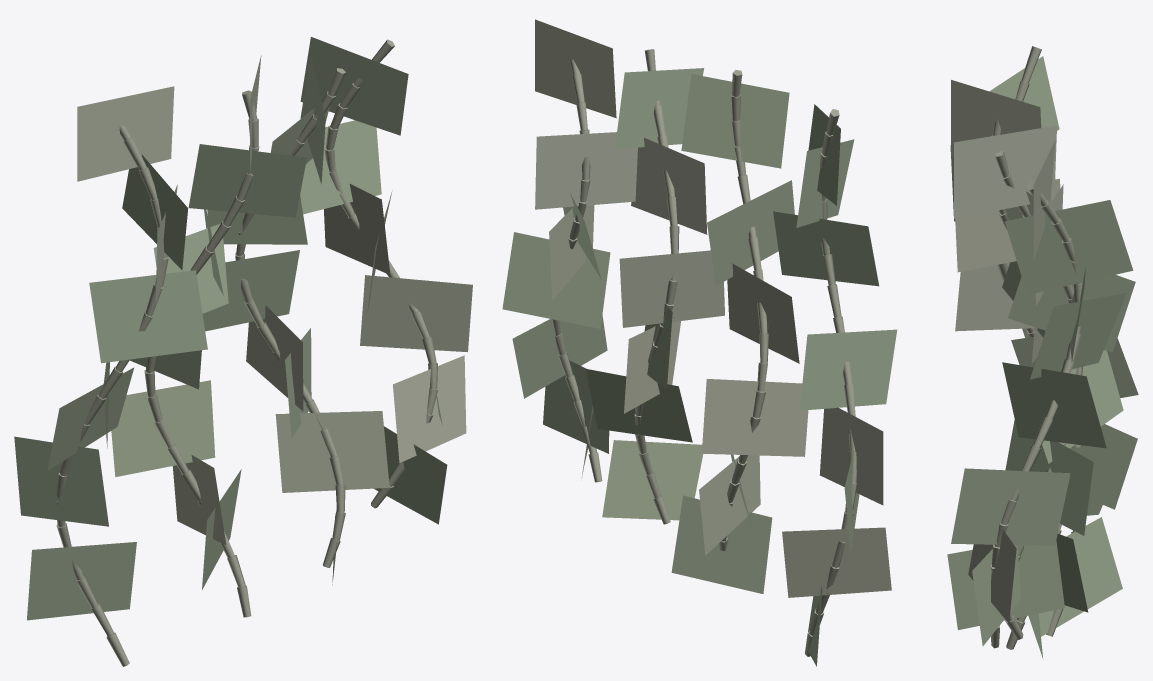
3 renders of one model, left to right at view 1: azimuth 30°, elevation 25°; view 2: azimuth 150°, elevation 25°; view 3: azimuth 270°, elevation 25°, orthographic. The views are drawn at different scales.
Parts seen in each view (by area): view 1: Visual; view 2: Visual; view 3: Visual.
Boxes of the visible parts, <box> form: Visual: <box>14,37,472,666</box>; Visual: <box>502,19,897,666</box>; Visual: <box>947,46,1138,659</box>.
Size of the model in its own units: 7.56 by 10.16 by 3.1.
